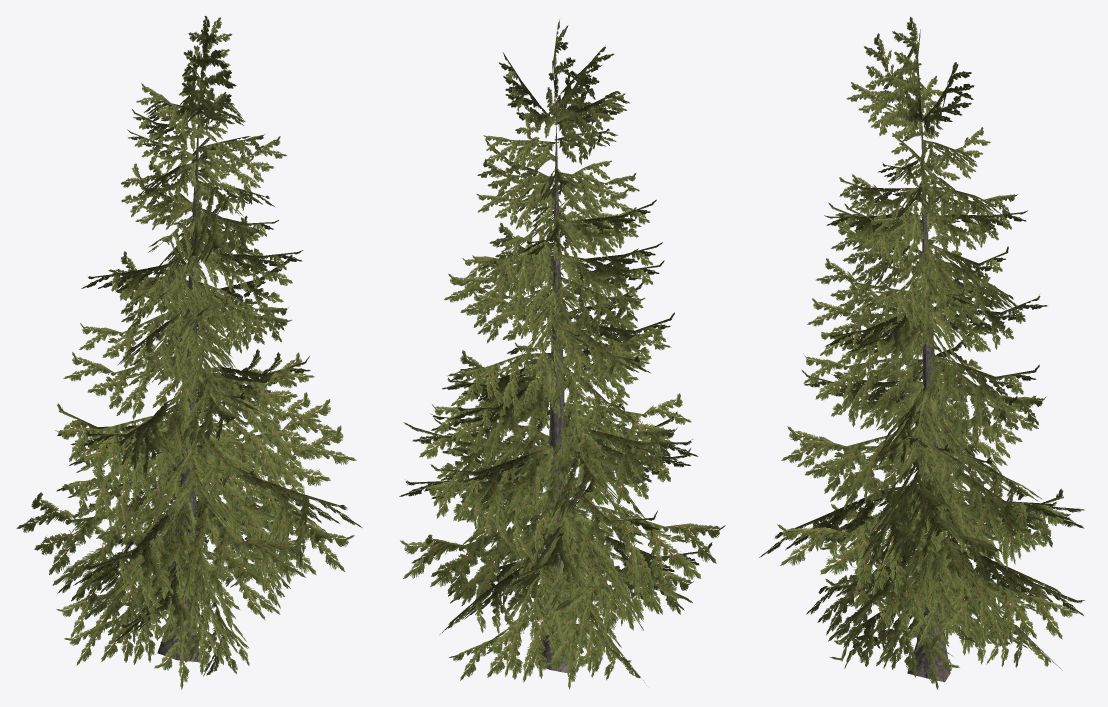
The model's file is Larix_Decidua_Spring_Young.glb.
The picture shows the model from 3 angles, left to right: view 1: azimuth 30°, elevation 25°; view 2: azimuth 150°, elevation 25°; view 3: azimuth 270°, elevation 25°; orthographic projection. The views are drawn at different scales.
Parts seen in each view (by area): view 1: Larix_Decidua_Spring_Young__LOD3; view 2: Larix_Decidua_Spring_Young__LOD3; view 3: Larix_Decidua_Spring_Young__LOD3.
Boxes of the visible parts, x1=… form: Larix_Decidua_Spring_Young__LOD3: x1=16, y1=16, x2=362, y2=689; Larix_Decidua_Spring_Young__LOD3: x1=399, y1=19, x2=725, y2=689; Larix_Decidua_Spring_Young__LOD3: x1=759, y1=16, x2=1084, y2=689.
Size of the model in its own units: 4.33 by 8.99 by 4.15.
2 materials, 2 textured.
